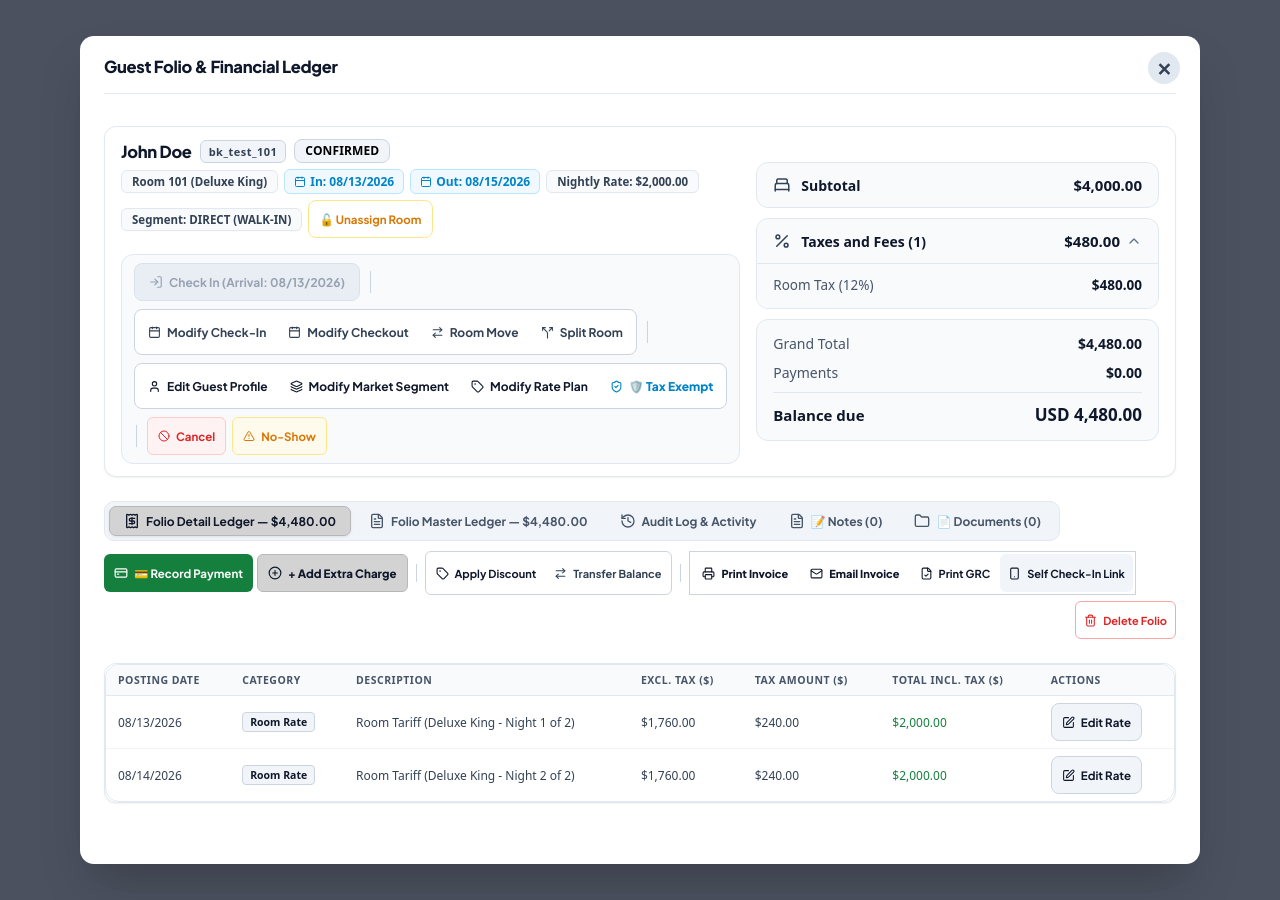
Test: FolioModal End-to-End Self-Testing Suite › 4. Tests Audit Log & Activity tab rendering logs for the reservation
The image size is (1280, 900).
Switch tab to "Audit Log & Activity"
Click the button "Audit Log & Activity". click: (688, 521)
box: [606,507,771,535]
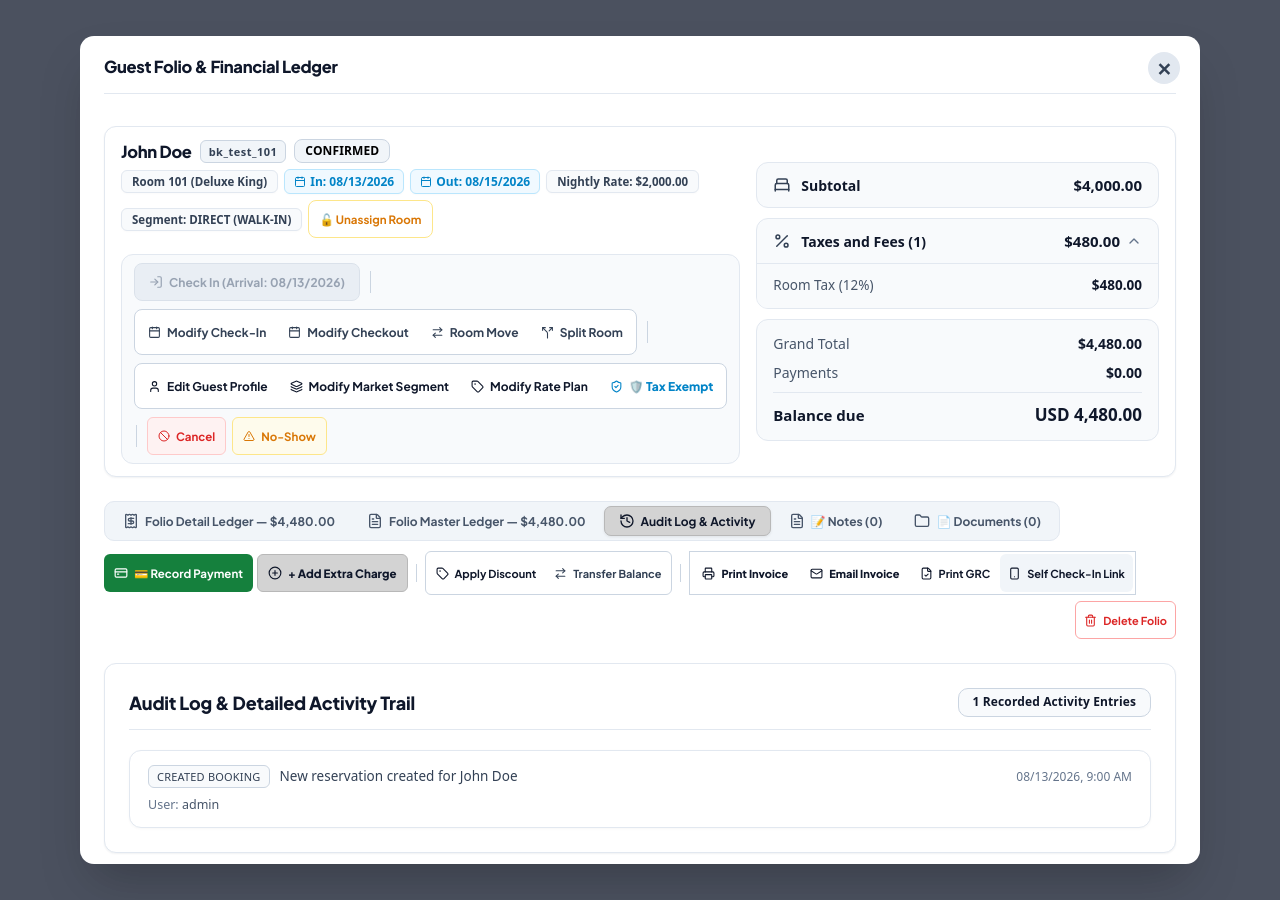
Expected: the text "New reservation created for John Doe" is shown, [280,767,518,785]
